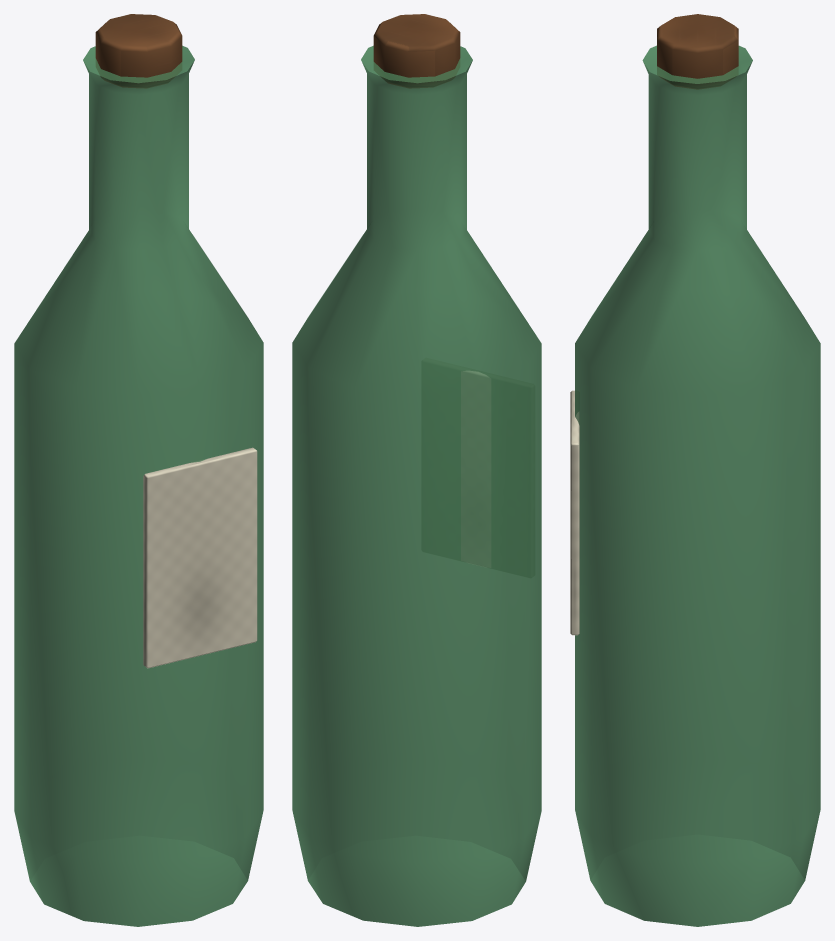
Rendered from Hold_WineBottle.fbx.
3 renders of one model, left to right at view 1: azimuth 30°, elevation 25°; view 2: azimuth 150°, elevation 25°; view 3: azimuth 270°, elevation 25°, orthographic.
Parts seen in each view (by area): view 1: Hold_WineBottle; view 2: Hold_WineBottle; view 3: Hold_WineBottle.
Boxes of the visible parts, x1=… form: Hold_WineBottle: x1=14, y1=14, x2=263, y2=926; Hold_WineBottle: x1=292, y1=14, x2=541, y2=926; Hold_WineBottle: x1=570, y1=14, x2=820, y2=926.
Bounding box in the file's own units: 0.08 × 0.3 × 0.08.
Materials: 2 (1 with a texture image).
